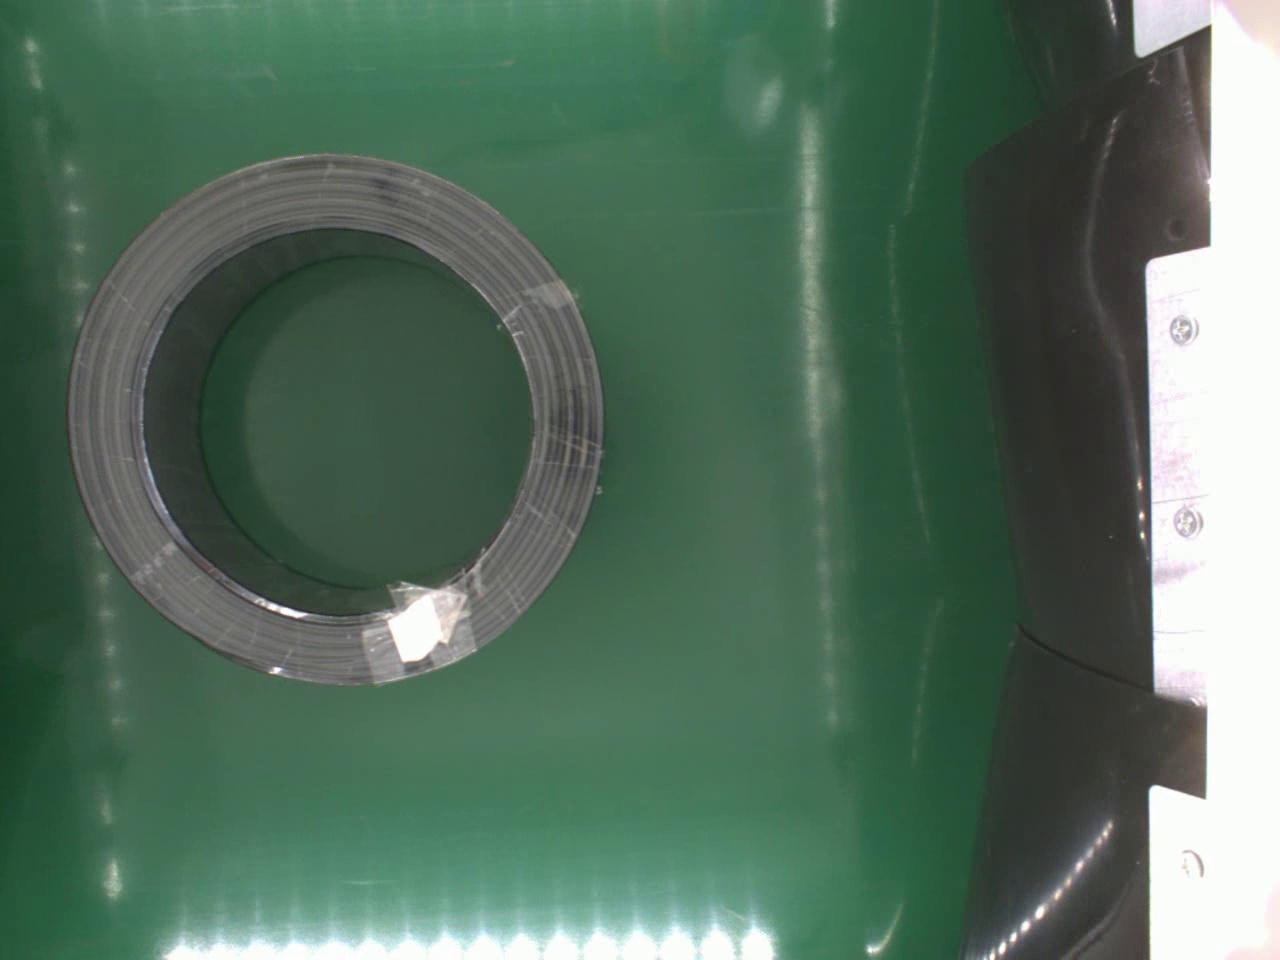black: (67, 146, 609, 690)
